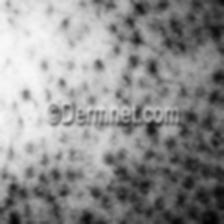Non-Cancerous Skin Condition: (36, 148, 222, 224)
